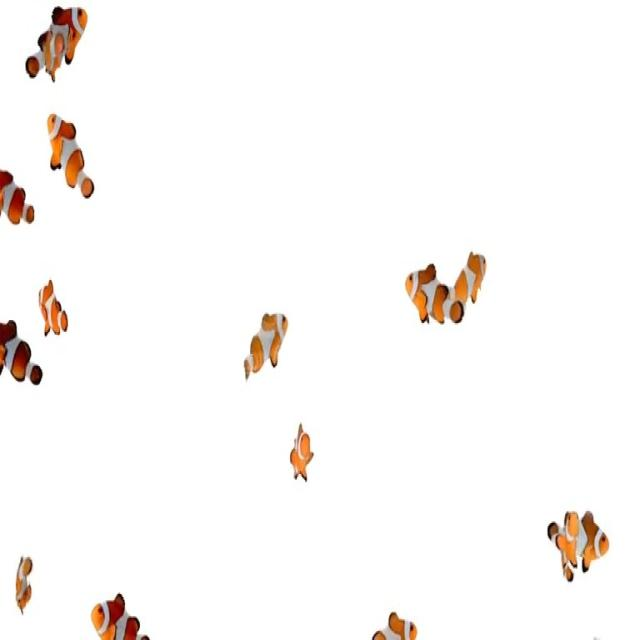fish: (48, 107, 109, 210), (20, 0, 92, 80), (398, 261, 460, 349), (548, 502, 614, 584), (238, 299, 295, 387), (0, 313, 52, 388), (89, 584, 148, 640), (0, 155, 42, 230), (35, 279, 79, 343), (448, 255, 496, 312), (287, 421, 323, 485), (16, 552, 34, 610)
